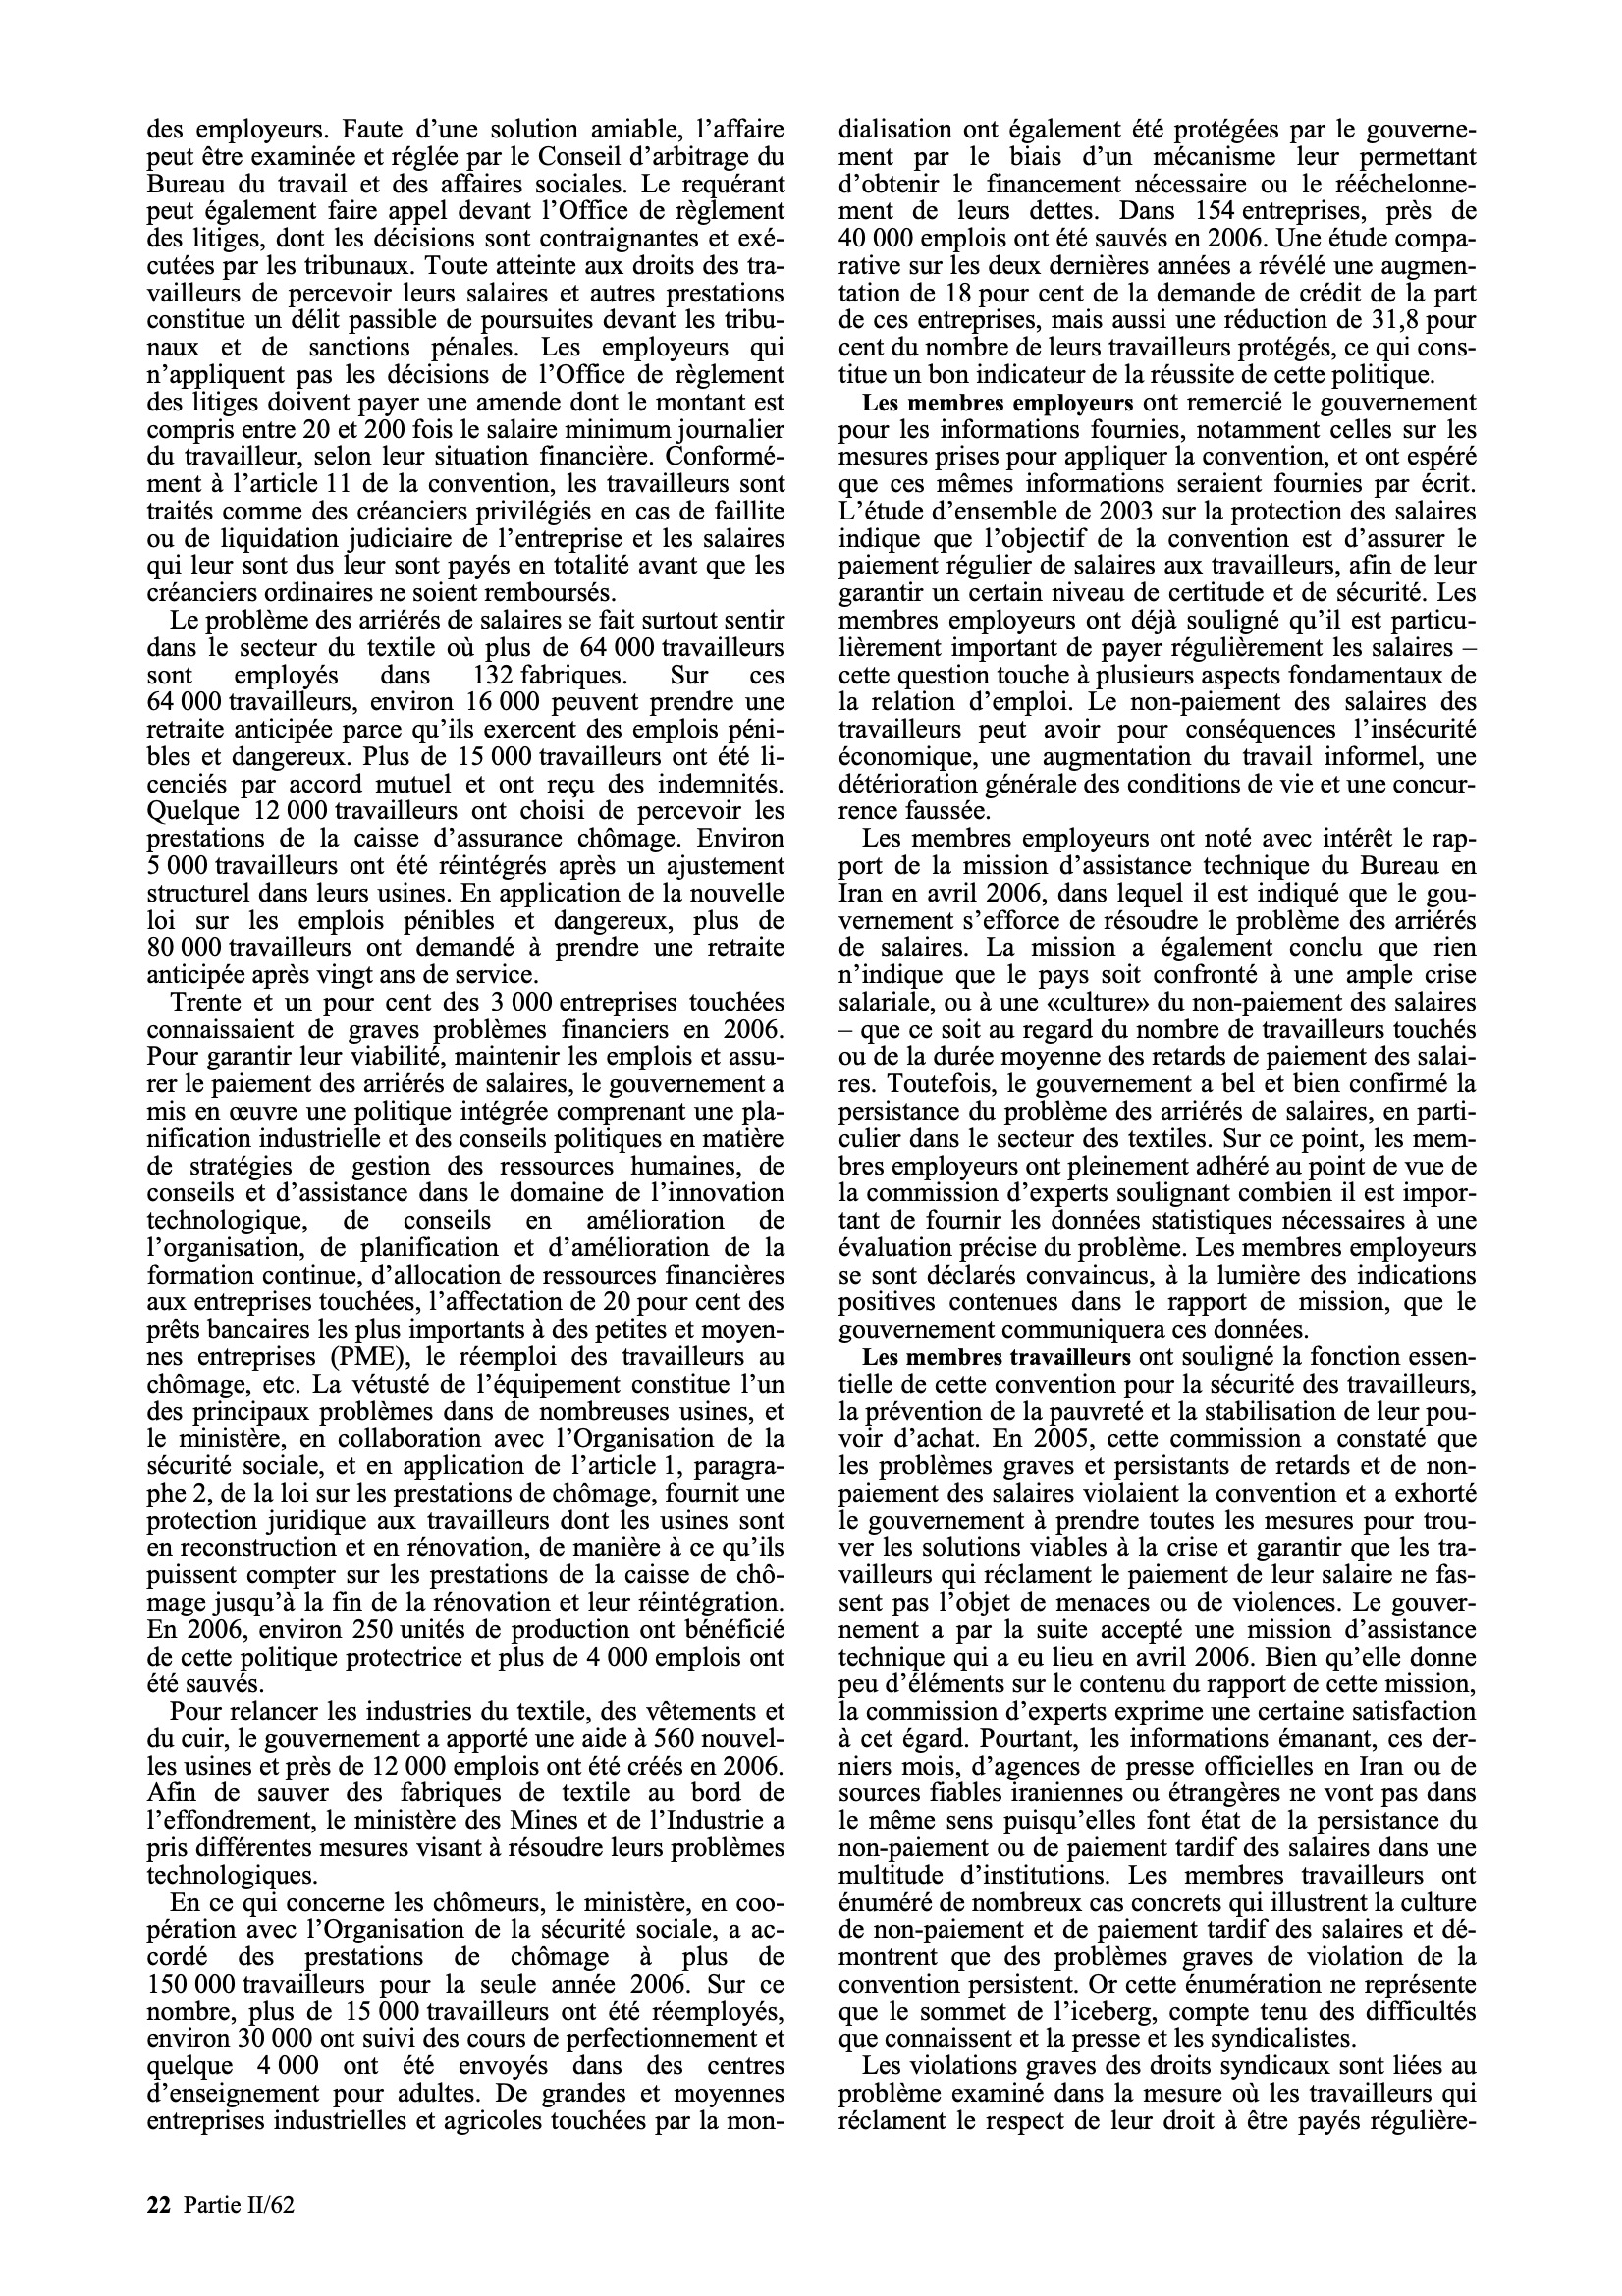MainZone-Continued: (139, 111, 795, 600), (818, 109, 1482, 390)
MainZone-P: (139, 985, 795, 1699), (830, 1345, 1487, 2047), (830, 825, 1487, 1345), (823, 391, 1482, 818), (135, 600, 795, 987), (139, 1889, 793, 2143), (139, 1697, 792, 1889), (832, 2052, 1485, 2142)
TitlePageZone: (137, 2182, 304, 2231)
